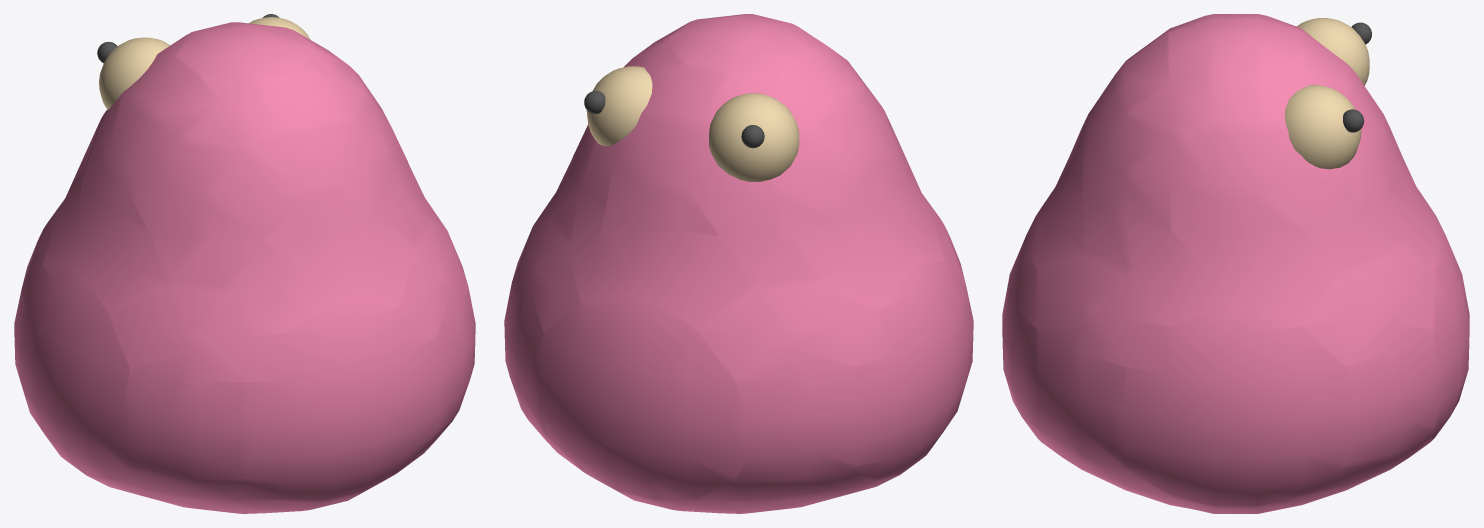
The model's file is jury.glb.
3 views of the same model, side by side, from view 1: azimuth 30°, elevation 25°; view 2: azimuth 150°, elevation 25°; view 3: azimuth 270°, elevation 25° (orthographic).
Visible parts, largest first — view 1: Mball.002, Sphere.001; view 2: Mball.002, Sphere.001, Sphere; view 3: Mball.002, Sphere, Sphere.001.
Boxes of the visible parts, bbox=[...] form: Mball.002: bbox=[14, 22, 475, 513]; Sphere.001: bbox=[97, 37, 169, 109]; Mball.002: bbox=[504, 14, 973, 513]; Sphere.001: bbox=[709, 93, 799, 181]; Sphere: bbox=[584, 66, 652, 146]; Mball.002: bbox=[1002, 14, 1469, 513]; Sphere: bbox=[1285, 85, 1364, 169]; Sphere.001: bbox=[1297, 18, 1371, 85].
Size of the model in its own units: 1.75 by 1.85 by 1.75.
